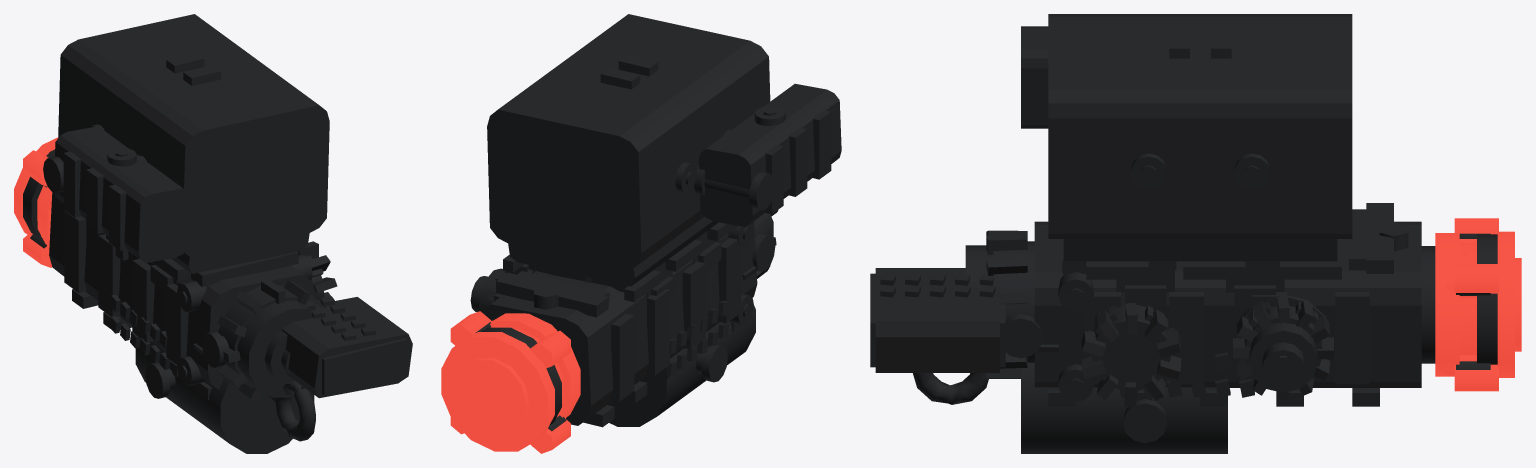
Rendered from attachment_marksman_laser.glb.
3 views of the same model, side by side, from view 1: azimuth 30°, elevation 25°; view 2: azimuth 150°, elevation 25°; view 3: azimuth 270°, elevation 25° (orthographic). The views are drawn at different scales.
Visible parts, largest first — view 1: attachment_marksman_laser__marksman_laser__marksman_laser__b, attachment_marksman_laser__marksman_laser__marksman_laser__e; view 2: attachment_marksman_laser__marksman_laser__marksman_laser__b, attachment_marksman_laser__marksman_laser__marksman_laser__e; view 3: attachment_marksman_laser__marksman_laser__marksman_laser__b, attachment_marksman_laser__marksman_laser__marksman_laser__e.
Boxes of the visible parts, x1=… form: attachment_marksman_laser__marksman_laser__marksman_laser__b: x1=23, y1=14, x2=412, y2=453; attachment_marksman_laser__marksman_laser__marksman_laser__e: x1=14, y1=137, x2=58, y2=267; attachment_marksman_laser__marksman_laser__marksman_laser__b: x1=470, y1=14, x2=841, y2=431; attachment_marksman_laser__marksman_laser__marksman_laser__e: x1=441, y1=311, x2=580, y2=453; attachment_marksman_laser__marksman_laser__marksman_laser__b: x1=870, y1=14, x2=1497, y2=453; attachment_marksman_laser__marksman_laser__marksman_laser__e: x1=1435, y1=218, x2=1521, y2=391.
Size of the model in its own units: 0.0505 by 0.0651 by 0.0943.
